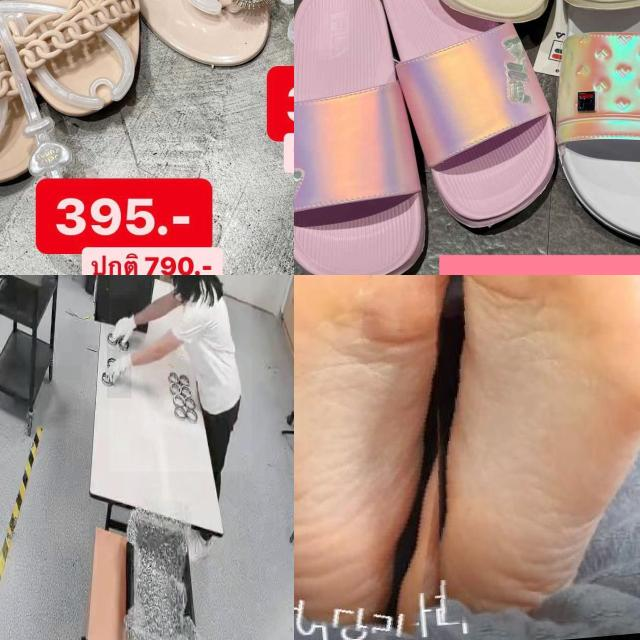Barefoots: (394, 275, 640, 635), (294, 275, 446, 616)
Sandals: (294, 0, 570, 275), (0, 0, 162, 193)
hand_glove: (110, 299, 139, 350), (107, 342, 132, 399)
person: (109, 275, 252, 472)
